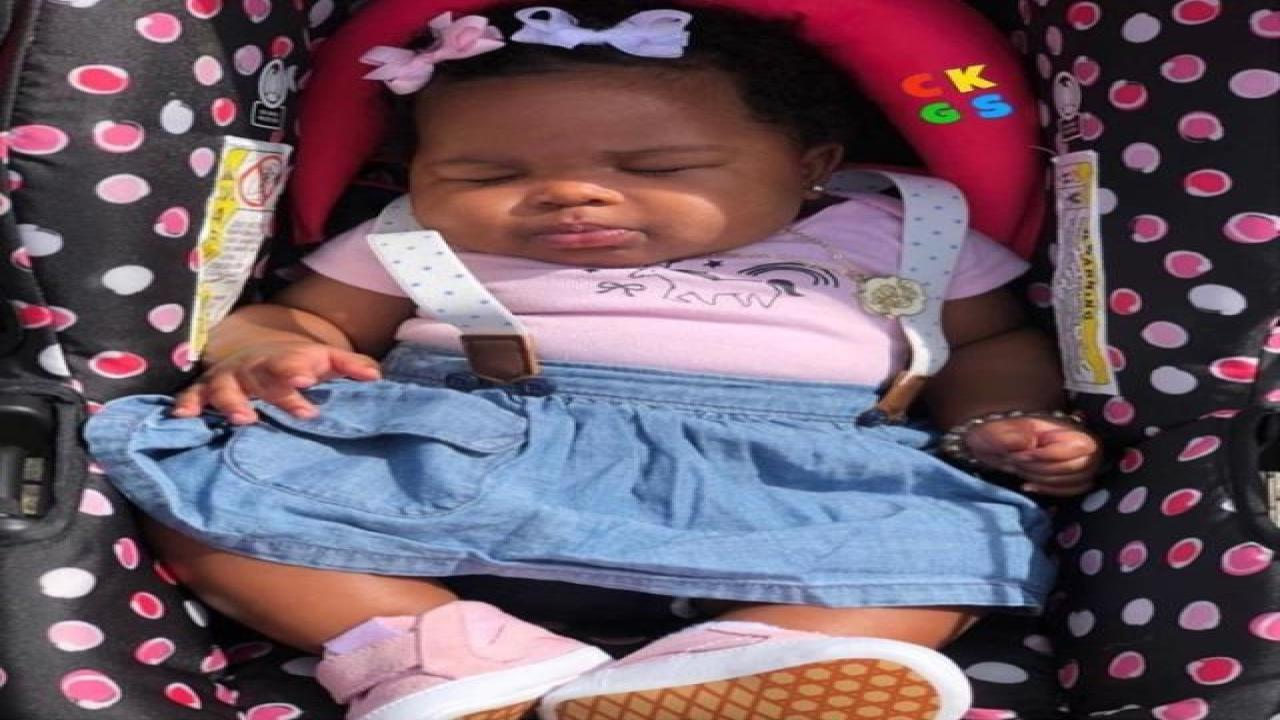hand: (167, 346, 385, 425), (955, 414, 1105, 499)
